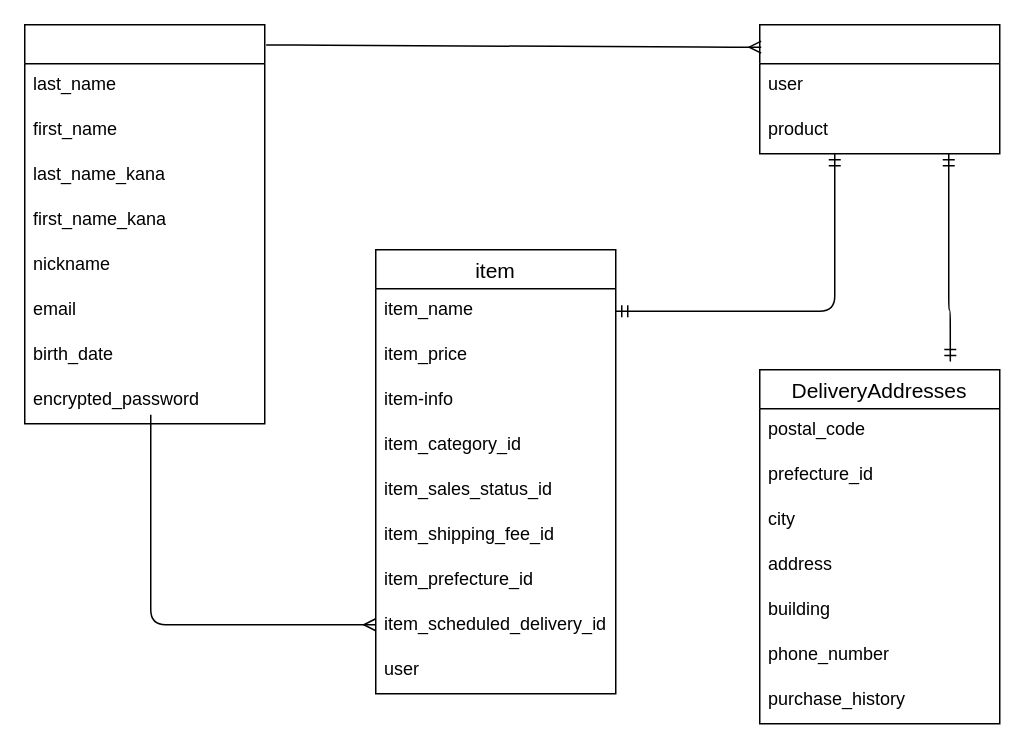
Image size: 1025x749. Some labels were removed from this diagram. The box of each missing label's shape, as (x1, y1, x2, y2) in pixels:
PurchaseHistories: (758, 23, 1000, 154)
Users: (23, 23, 265, 424)
